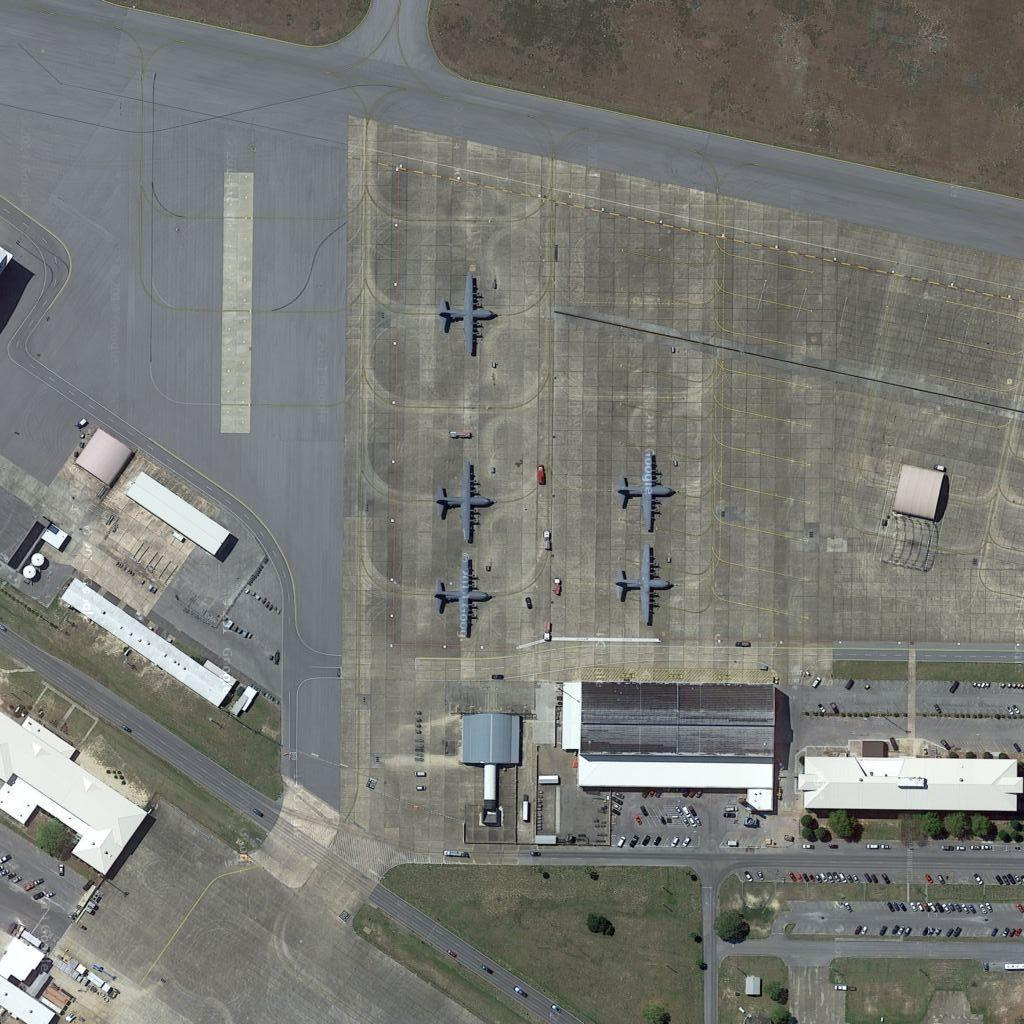C-130: (431, 454, 500, 548), (612, 540, 680, 632), (610, 448, 681, 536), (438, 268, 503, 358), (435, 548, 494, 644)
